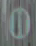Two way: (5, 4, 34, 45)
